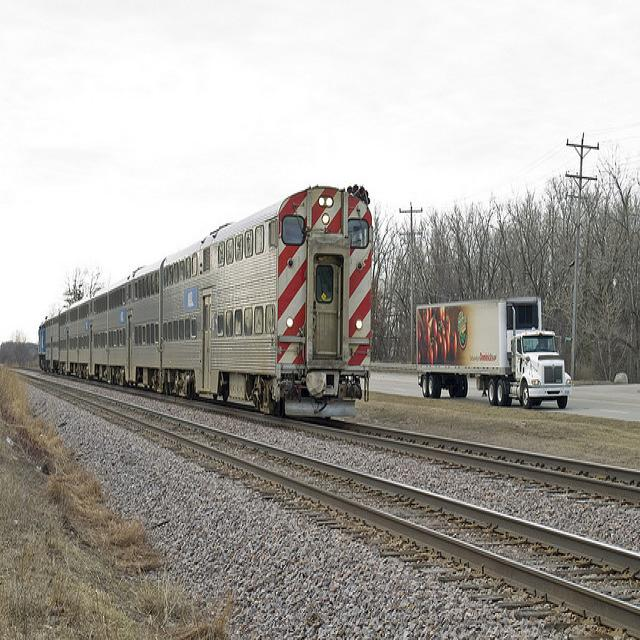Vehicle: (416, 295, 570, 411)
